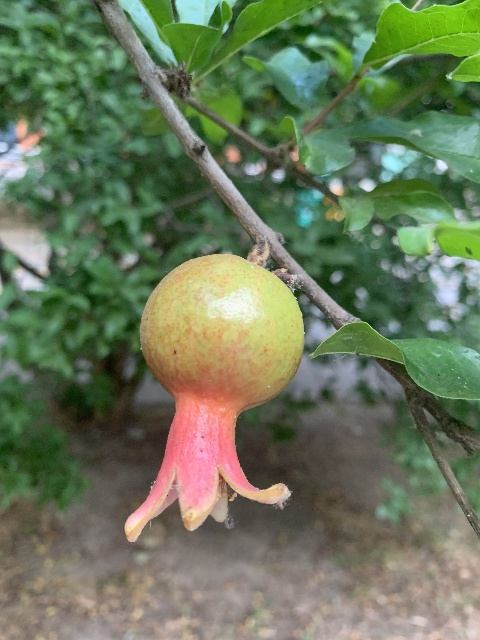mid-growth: (121, 253, 303, 536)
